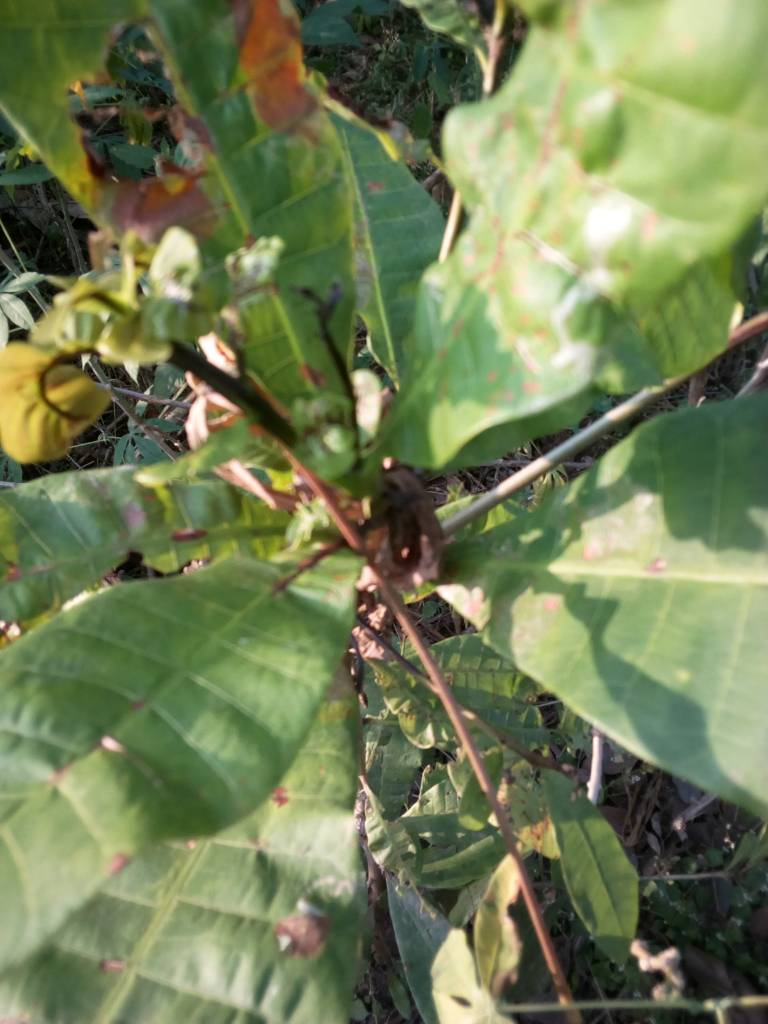Helopeltis anacardii: (377, 1, 768, 453), (1, 1, 361, 442)
